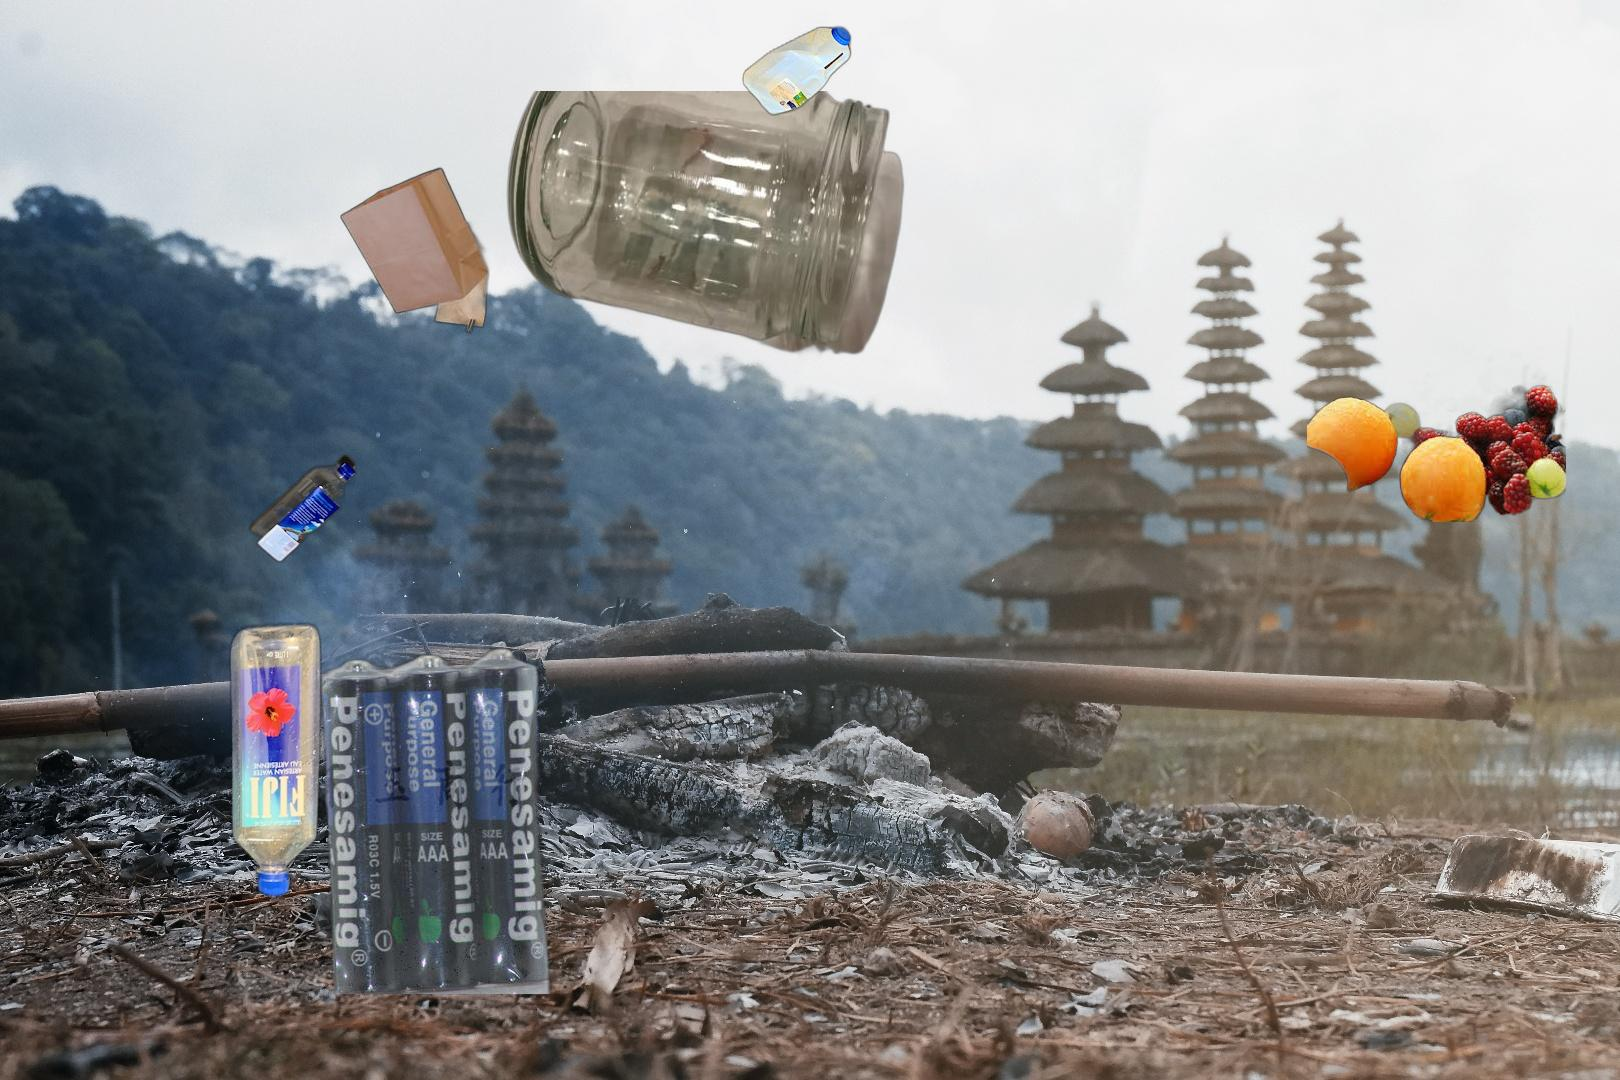battery: (313, 645, 558, 994)
biological: (1307, 340, 1566, 522)
glass: (503, 90, 906, 375)
paper-bag: (337, 165, 491, 340)
plastic-bottles: (225, 617, 325, 905), (245, 450, 360, 568), (738, 20, 856, 121)
